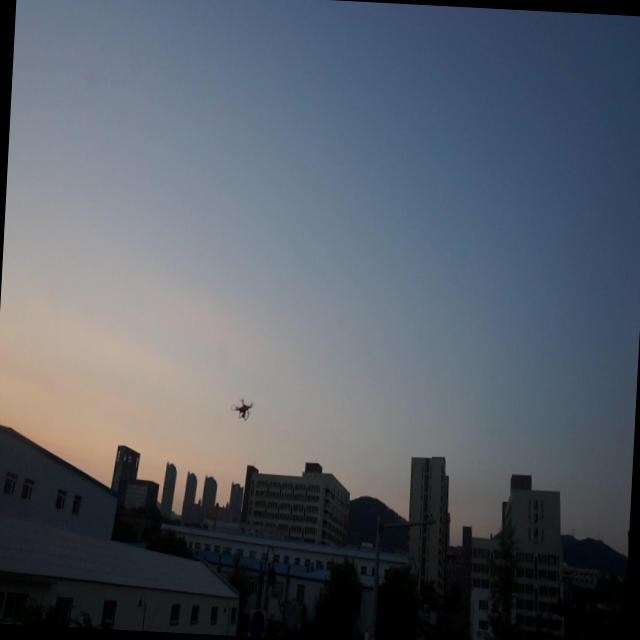drone: (229, 392, 256, 423)
